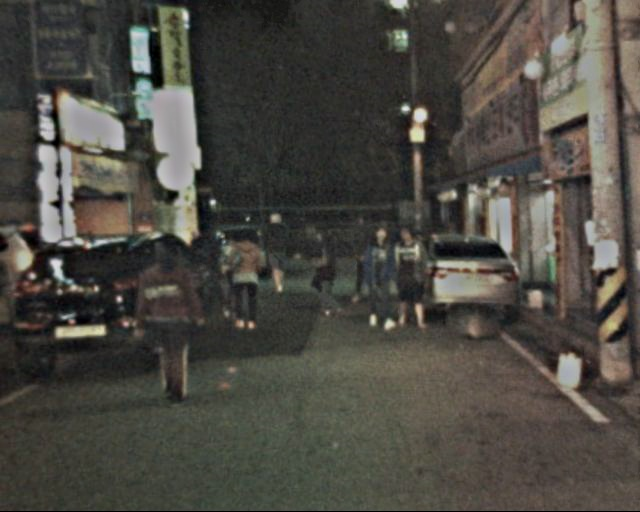person: (133, 235, 202, 401), (390, 223, 433, 325), (358, 229, 400, 325), (225, 231, 267, 326), (183, 223, 225, 312), (344, 213, 381, 304), (306, 230, 342, 316), (257, 211, 295, 290)
